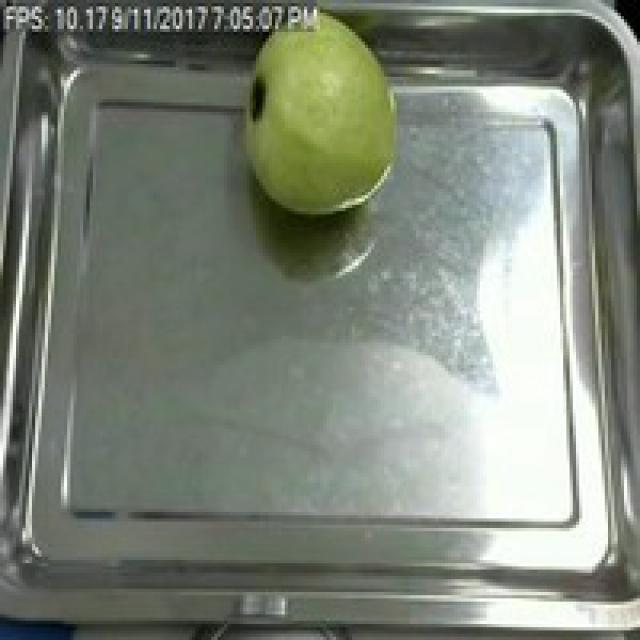Fruit: (233, 0, 410, 227)
